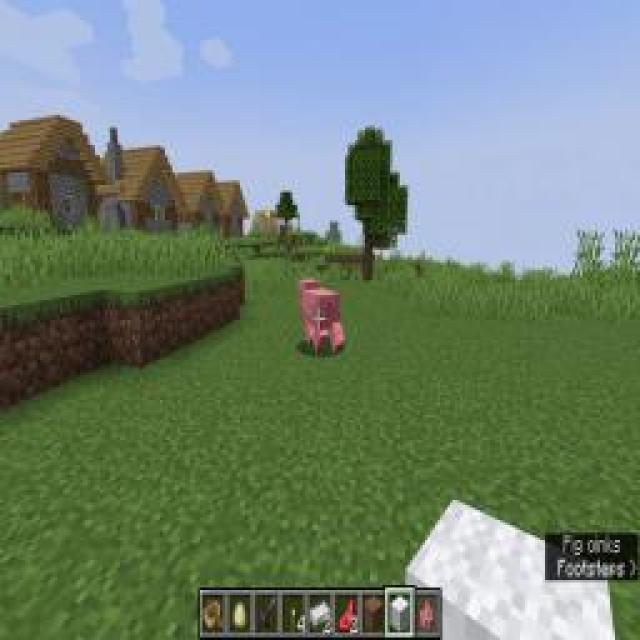Pig: (296, 275, 346, 357)
